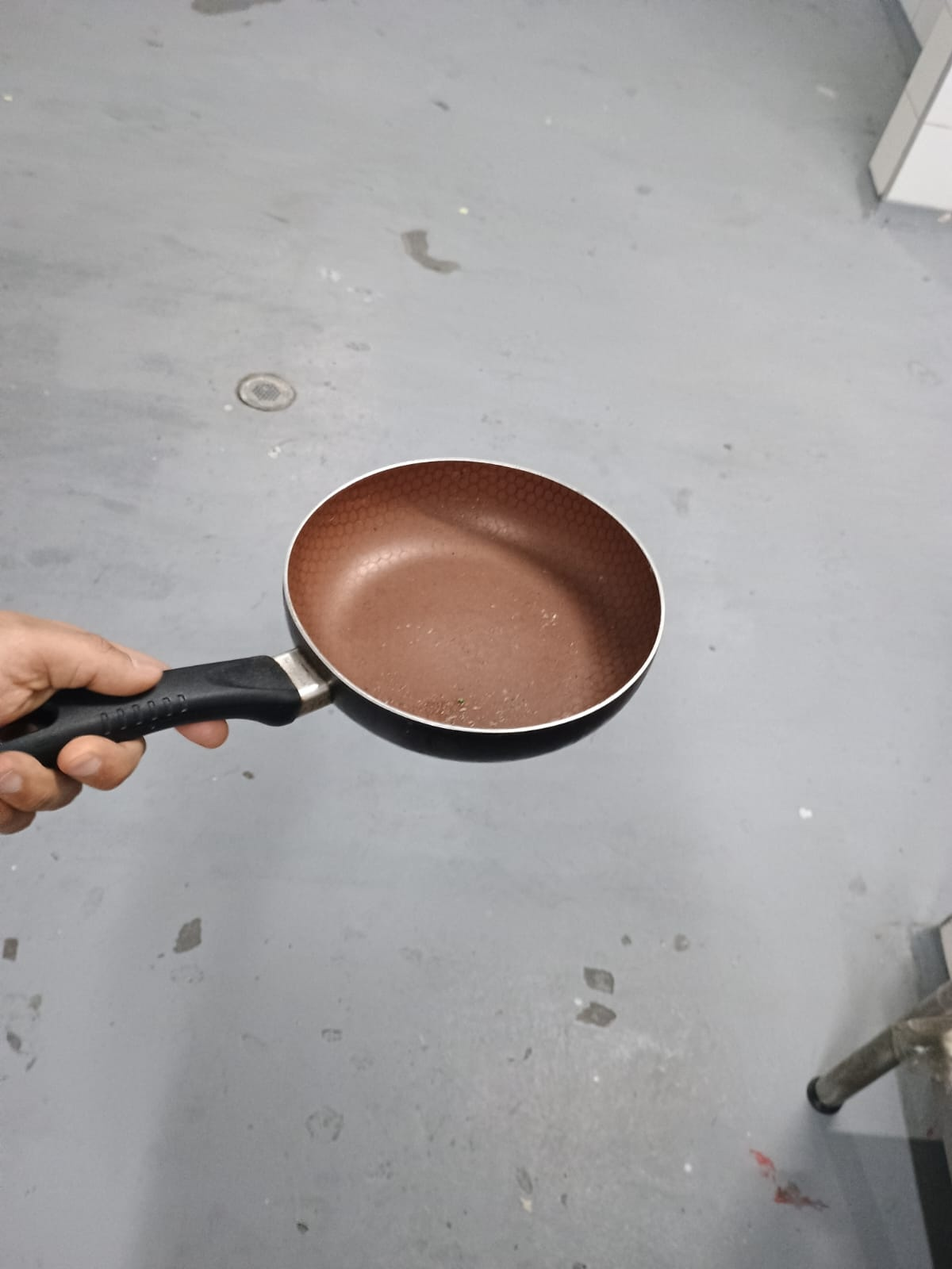Metal: (283, 453, 667, 759)
